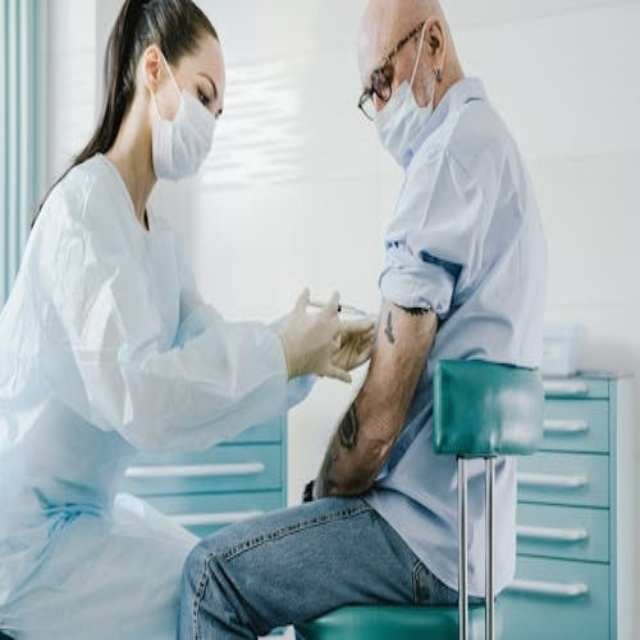Gafas: (357, 20, 428, 121)
Guantes: (280, 287, 377, 382)
Mascara: (369, 23, 440, 167), (148, 49, 216, 181)
Sin_gafas: (183, 61, 230, 123)
